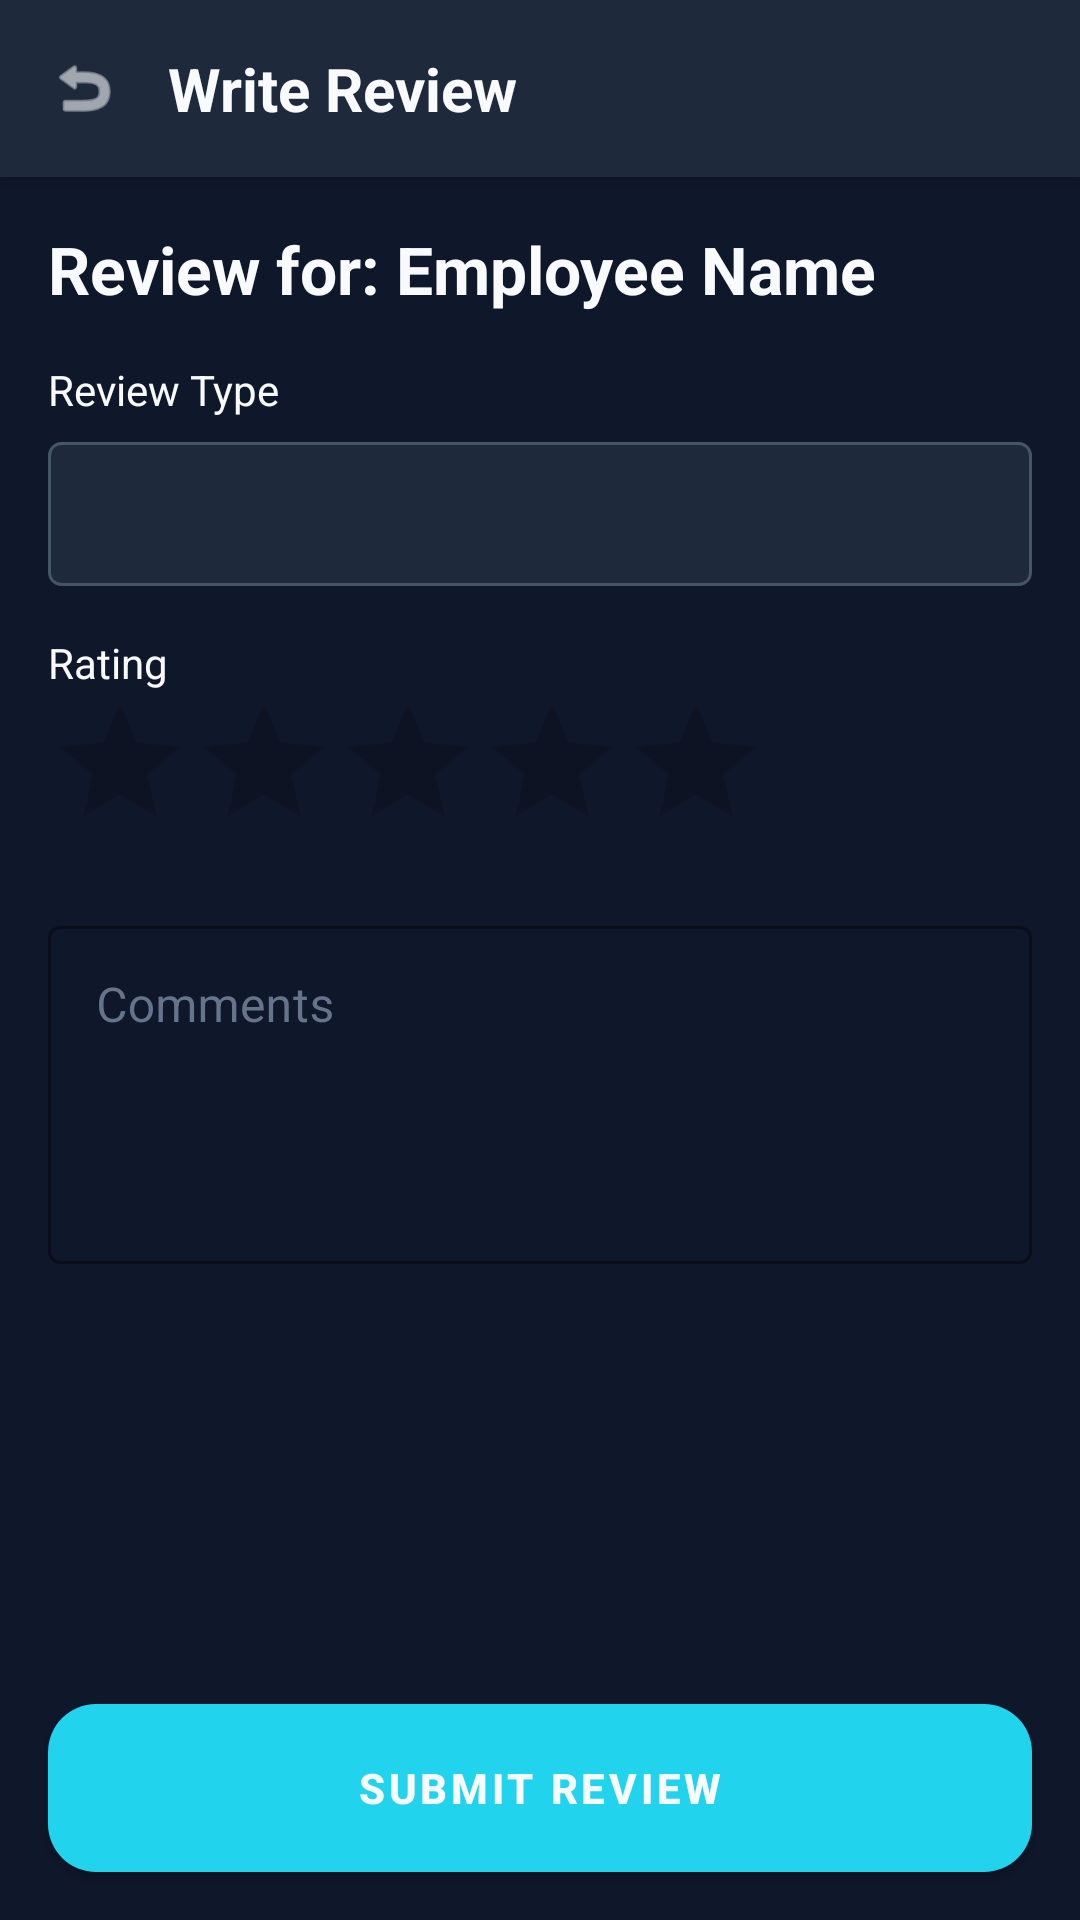

Screen size 1080*1920. Icon name, then its center in pixels as [x,y]:
revert: [85,88]
